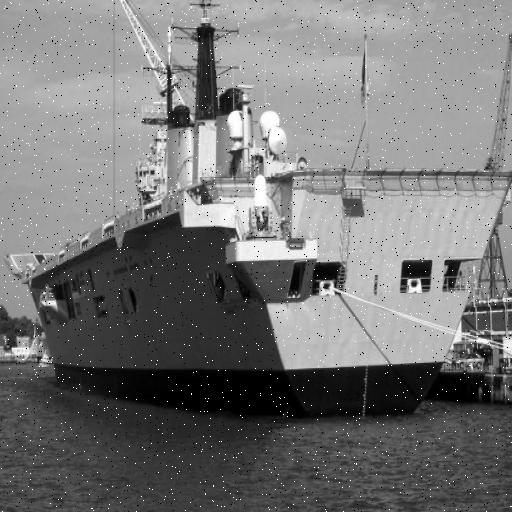Portanaves: (1, 1, 512, 425)
